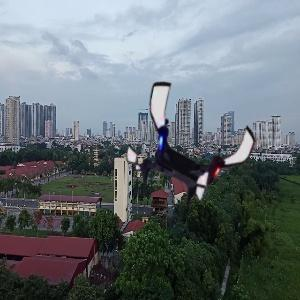drone: (127, 83, 258, 214)
